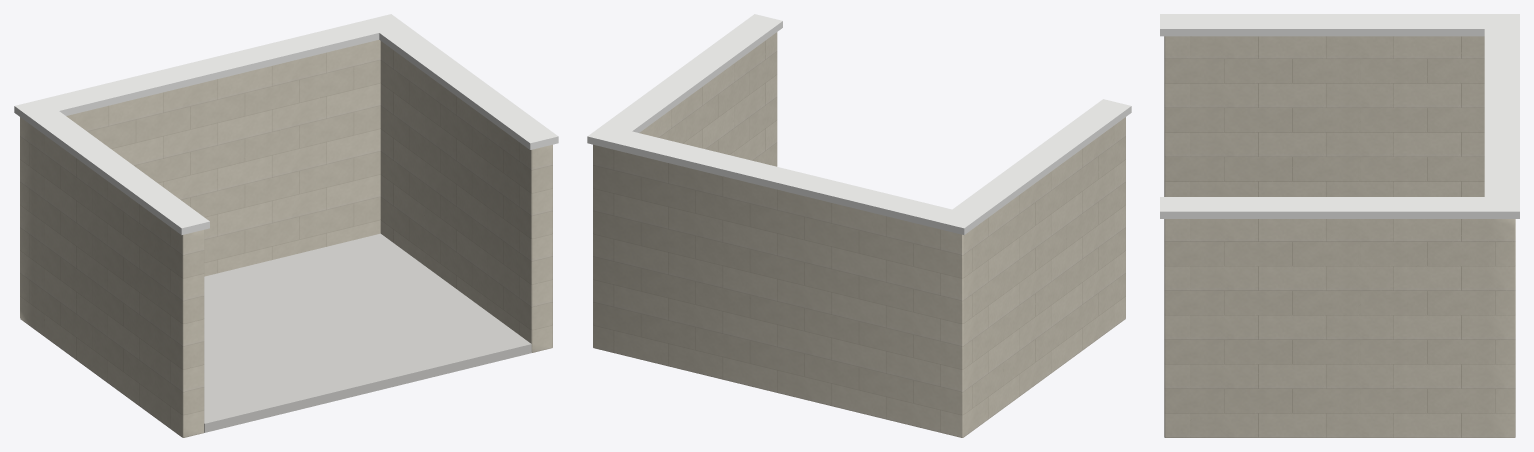
File: dumpster_enclosure.glb
3 renders of one model, left to right at view 1: azimuth 30°, elevation 25°; view 2: azimuth 150°, elevation 25°; view 3: azimuth 270°, elevation 25°, orthographic. The views are drawn at different scales.
Parts seen in each view (by area): view 1: dumpster_enclosure_block, dumpster_enclosure_concrete, dumpster_enclosure_trim; view 2: dumpster_enclosure_block, dumpster_enclosure_trim; view 3: dumpster_enclosure_block, dumpster_enclosure_trim.
Boxes of the visible parts, <box> form: dumpster_enclosure_block: <box>20,40,552,437</box>; dumpster_enclosure_concrete: <box>204,233,531,432</box>; dumpster_enclosure_trim: <box>14,14,558,234</box>; dumpster_enclosure_block: <box>593,32,1125,437</box>; dumpster_enclosure_trim: <box>587,14,1131,234</box>; dumpster_enclosure_block: <box>1164,36,1515,437</box>; dumpster_enclosure_trim: <box>1160,14,1519,218</box>.
Bounding box in the file's own units: 3.46 × 1.86 × 2.66.
Materials: 3 (1 with a texture image).
